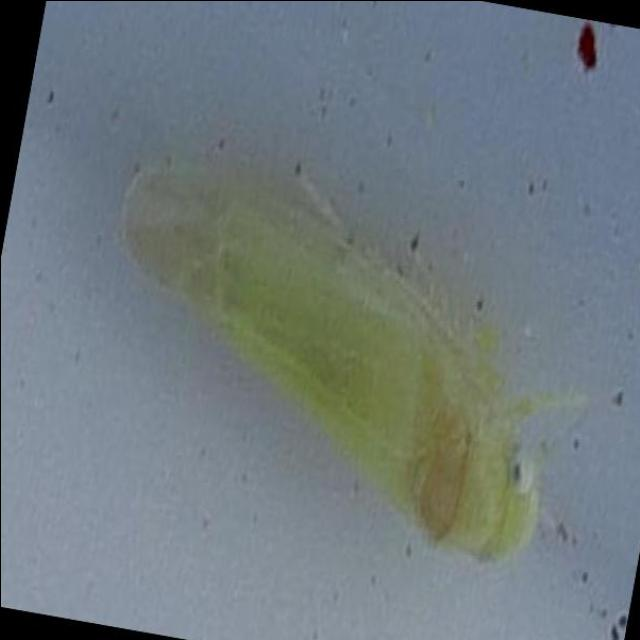green leaf hopper: (123, 164, 585, 560)
